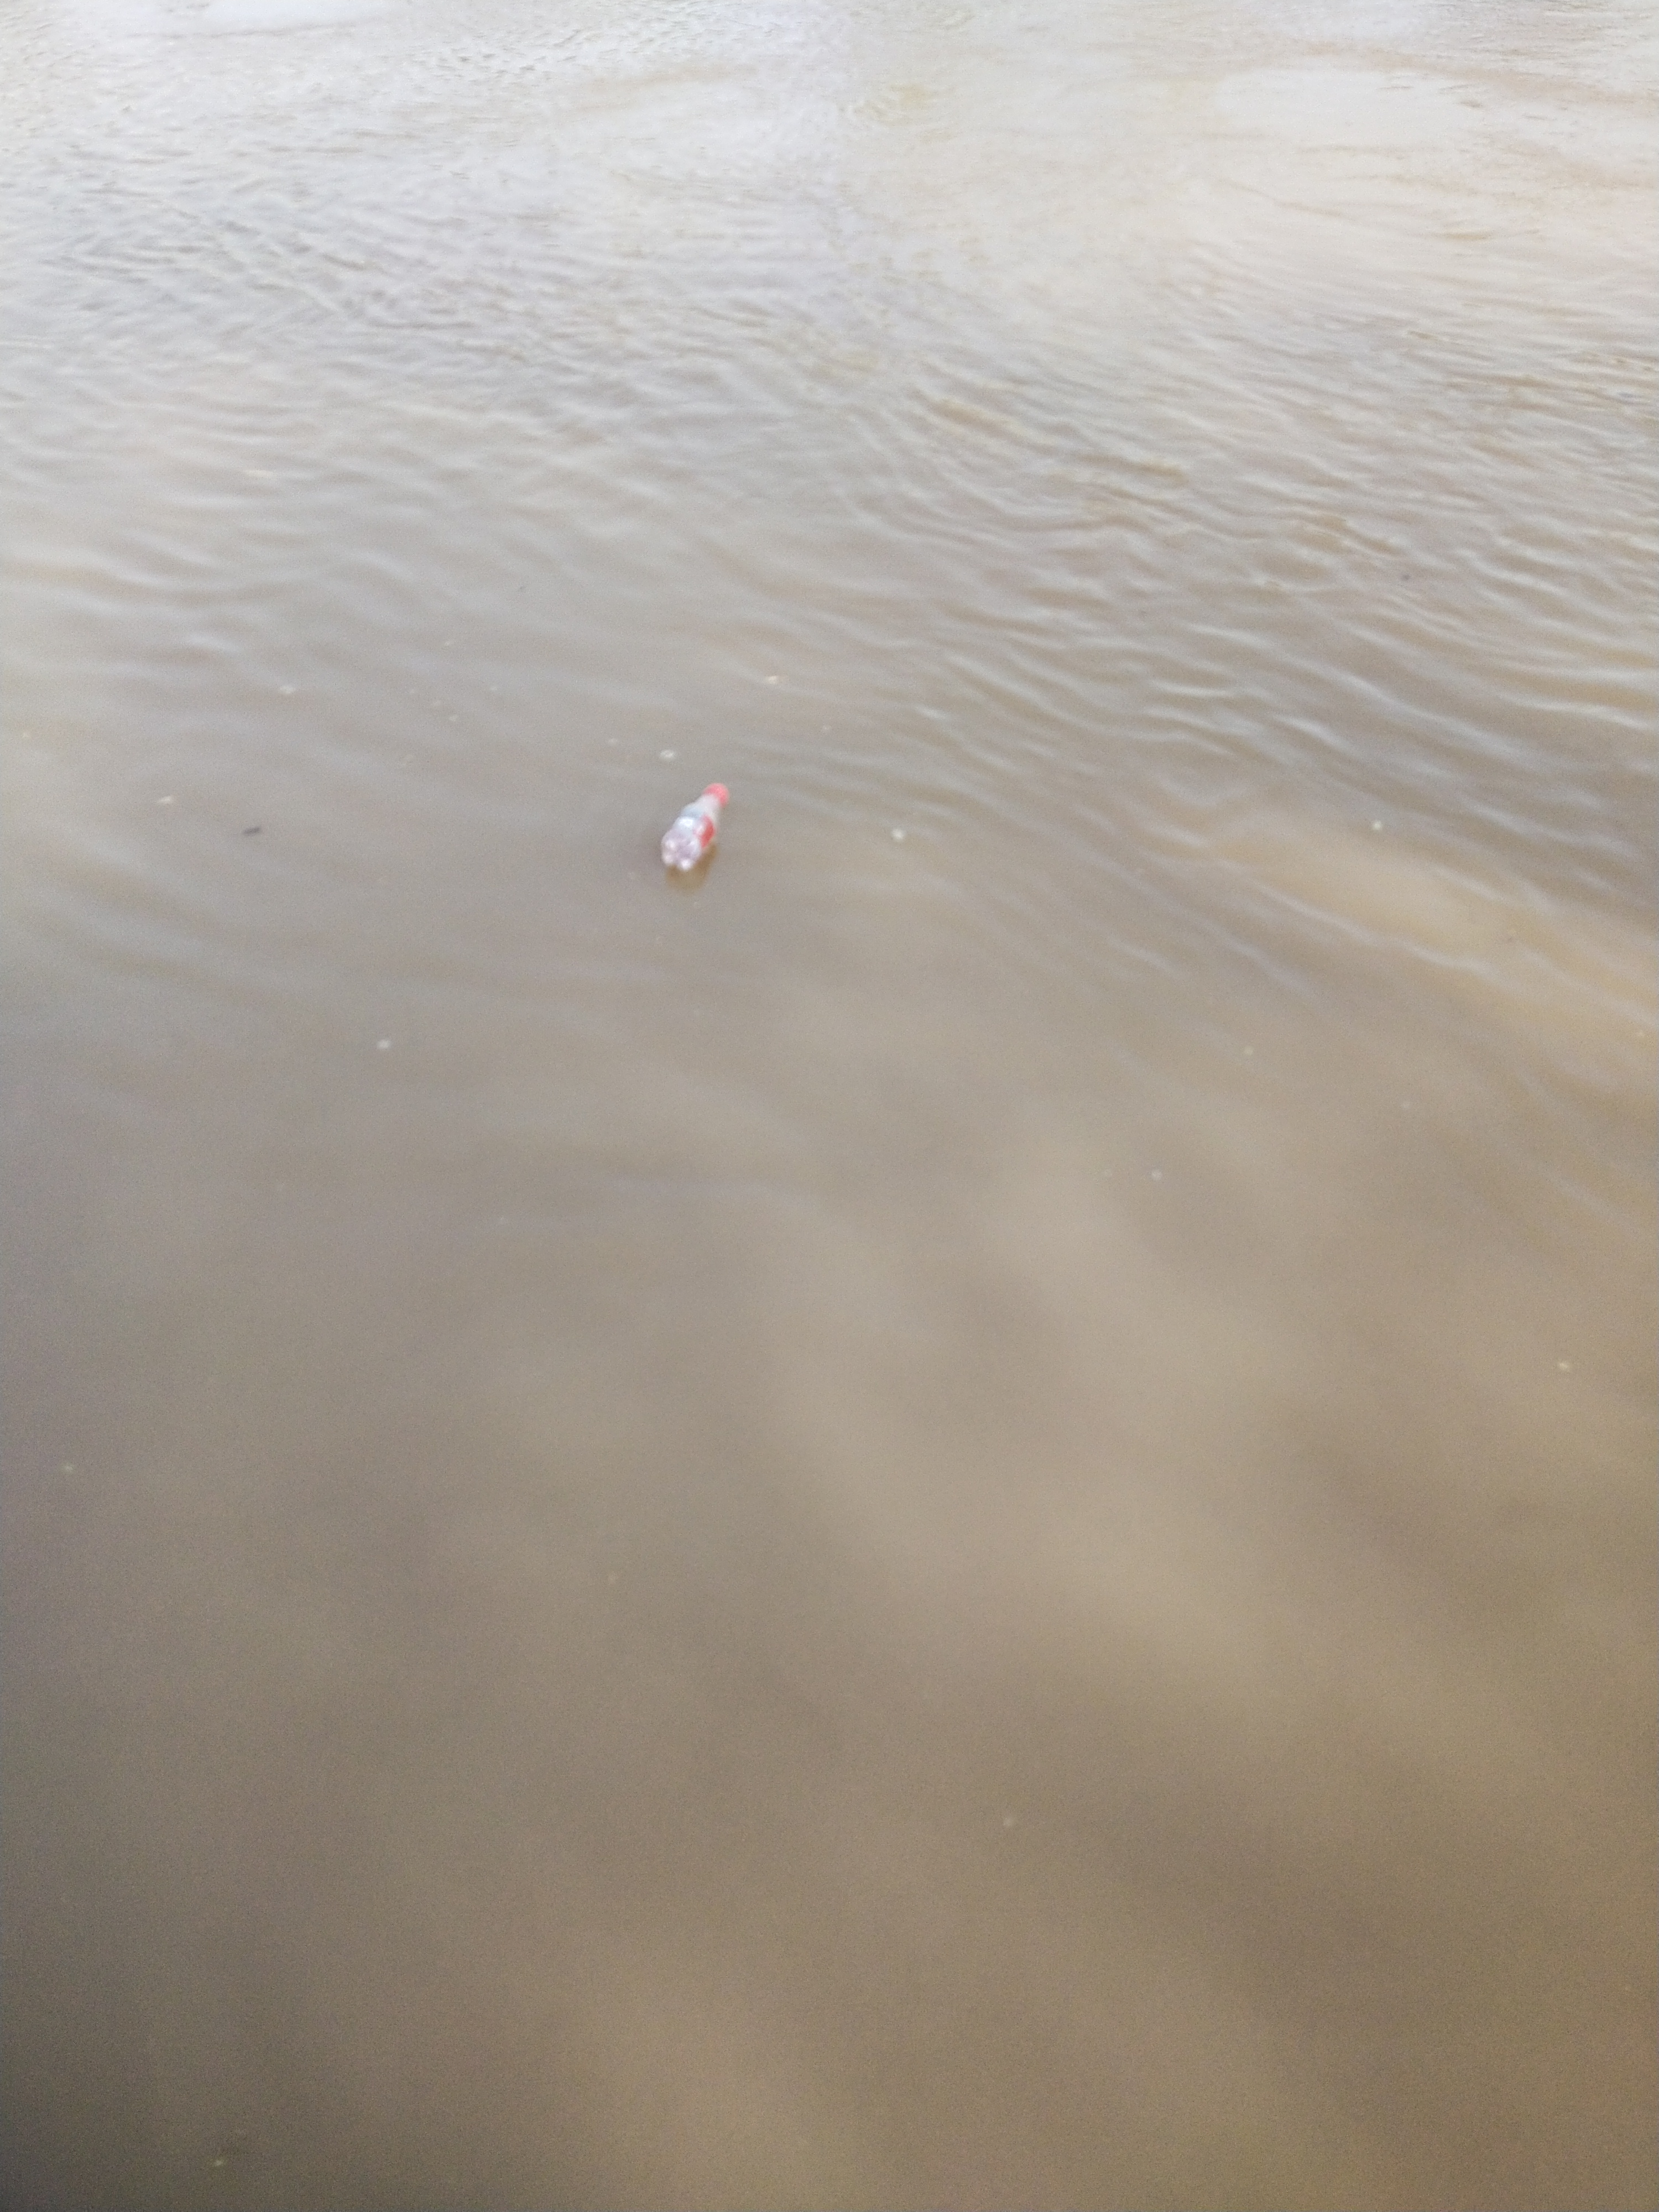Plastic Bottle: (659, 780, 723, 869)
